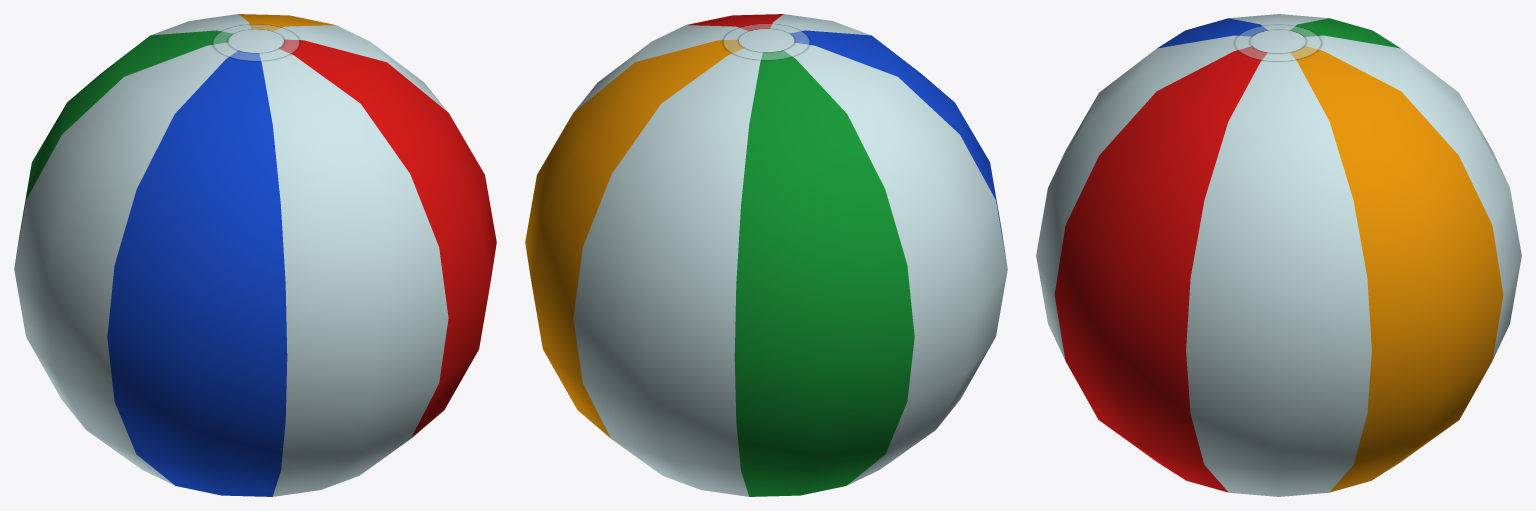
The model's file is beach_ball.fbx.
3 renders of one model, left to right at view 1: azimuth 30°, elevation 25°; view 2: azimuth 150°, elevation 25°; view 3: azimuth 270°, elevation 25°, orthographic.
Parts seen in each view (by area): view 1: polySurface1; view 2: polySurface1; view 3: polySurface1.
Boxes of the visible parts, bbox=[...] form: polySurface1: bbox=[14, 14, 496, 496]; polySurface1: bbox=[525, 14, 1007, 496]; polySurface1: bbox=[1036, 14, 1521, 496].
Size of the model in its own units: 6.34 by 6.3 by 6.34.
